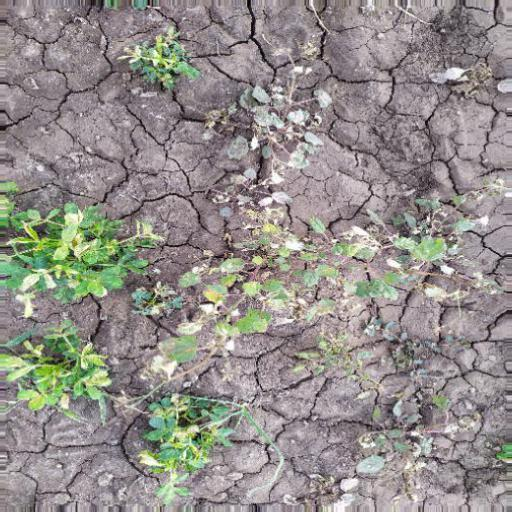weed: (155, 237, 459, 359), (1, 184, 145, 317), (126, 384, 256, 512), (1, 325, 123, 422), (104, 22, 208, 97)
